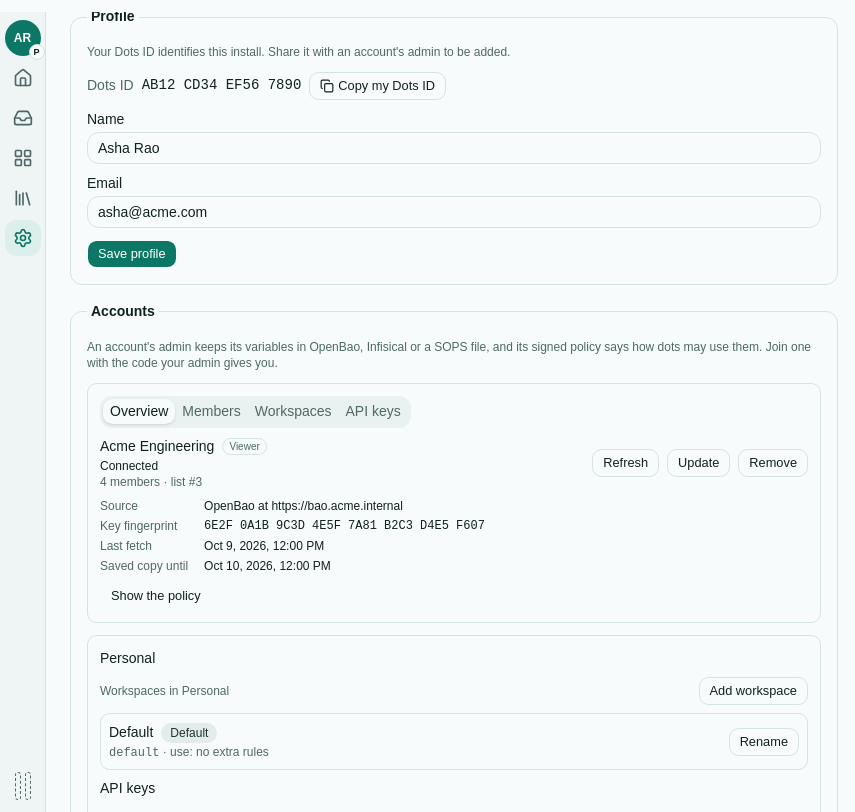
Settings, Accounts, Members › viewer sees members but no controls
(page scrolled)
Click the tab "Members": {"x": 212, "y": 412} [175,399,248,424]
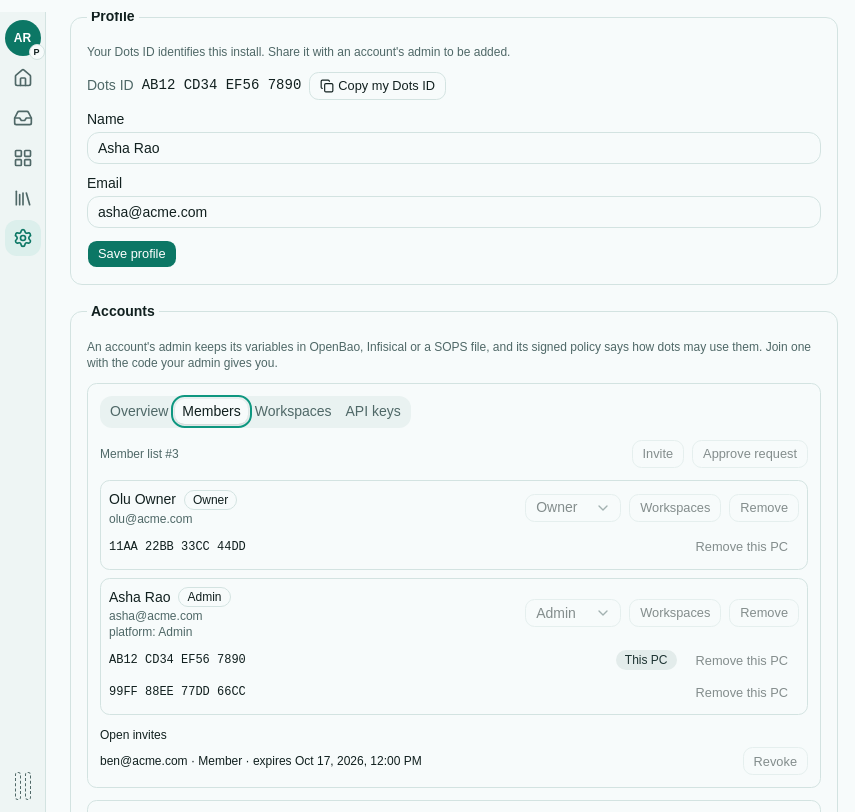
Result: the list named "Members" is shown at [100,480,808,715]
Result: the list item "Asha Rao" shows "asha@acme.com" at [109,609,203,623]
Result: the list item "Asha Rao" shows "Admin" at [188,590,222,604]
